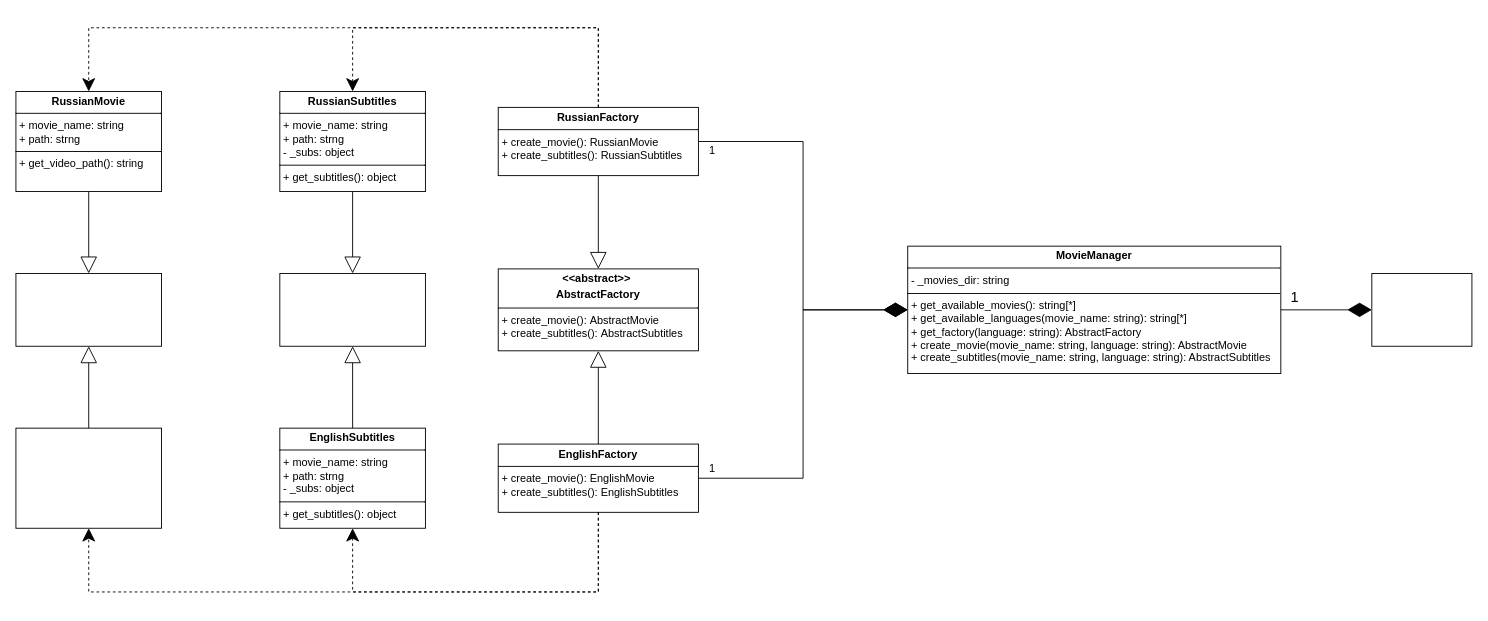
The diagram is 1488 pixels wide and 621 high, and some of its shapes have lost their labels. The shapes that lost their labels are listed below. From the top down, each one's box as (x1, y1, x2, y2) in pixels, then its label:
(15, 273, 162, 346): <<abstract>> AbstractMovie + get_video_path(): string
(279, 273, 425, 346): <<abstract>> AbstractSubtitles + get_subtitles(): object
(1371, 273, 1472, 346): MoviePlayerUI
(15, 427, 162, 528): English Movie + movie_name: string + path: strng + get_video_path(): string
